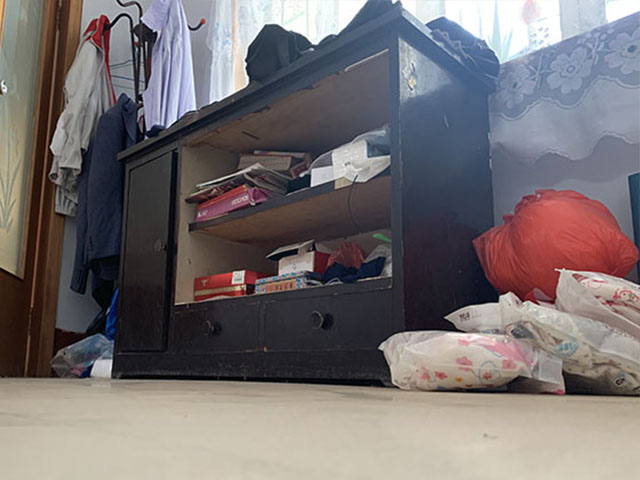cabinet: (109, 10, 503, 384)
